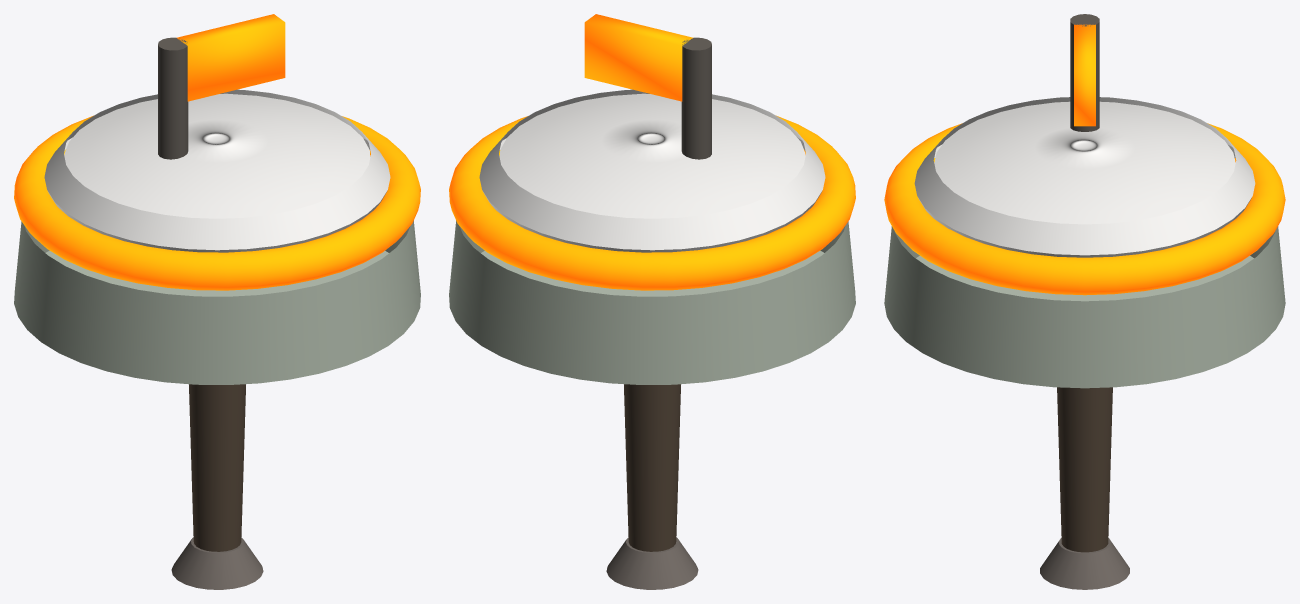
The model's file is poi-trailhead.glb.
The picture shows the model from 3 angles, left to right: view 1: azimuth 30°, elevation 25°; view 2: azimuth 150°, elevation 25°; view 3: azimuth 270°, elevation 25°; orthographic projection.
Visible parts, largest first — view 1: trailhead_head, trailhead_plate_dome, trailhead_ring, trailhead_plate_bevel, trailhead_stem, trailhead_flag, trailhead_pole, trailhead_foot, trailhead_collar, trailhead_plate_wall; view 2: trailhead_head, trailhead_plate_dome, trailhead_ring, trailhead_plate_bevel, trailhead_stem, trailhead_flag, trailhead_pole, trailhead_foot, trailhead_collar, trailhead_plate_wall; view 3: trailhead_head, trailhead_plate_dome, trailhead_ring, trailhead_plate_bevel, trailhead_stem, trailhead_foot, trailhead_flag, trailhead_pole, trailhead_collar, trailhead_plate_wall.
Part boxes in pixels (box(x1,y1,x2,y2)): trailhead_head: box(14, 220, 420, 384); trailhead_plate_dome: box(64, 93, 370, 218); trailhead_ring: box(14, 115, 420, 290); trailhead_plate_bevel: box(44, 89, 390, 250); trailhead_stem: box(189, 384, 245, 551); trailhead_flag: box(176, 14, 285, 101); trailhead_pole: box(158, 37, 188, 159); trailhead_foot: box(171, 537, 263, 589); trailhead_collar: box(132, 282, 302, 296); trailhead_plate_wall: box(48, 137, 386, 252); trailhead_head: box(449, 220, 855, 384); trailhead_plate_dome: box(499, 93, 805, 218); trailhead_ring: box(449, 115, 855, 290); trailhead_plate_bevel: box(479, 89, 825, 250); trailhead_stem: box(624, 384, 680, 551); trailhead_flag: box(584, 14, 693, 101); trailhead_pole: box(681, 37, 711, 159); trailhead_foot: box(606, 537, 698, 589); trailhead_collar: box(567, 282, 737, 296); trailhead_plate_wall: box(483, 137, 821, 252); trailhead_head: box(884, 226, 1285, 388); trailhead_plate_dome: box(934, 101, 1235, 224); trailhead_ring: box(884, 123, 1285, 295); trailhead_plate_bevel: box(914, 97, 1255, 255); trailhead_stem: box(1057, 387, 1112, 552); trailhead_foot: box(1040, 538, 1129, 589); trailhead_flag: box(1074, 24, 1095, 126); trailhead_pole: box(1070, 14, 1099, 131); trailhead_collar: box(1001, 287, 1168, 301); trailhead_plate_wall: box(918, 144, 1251, 257).
Bounding box in the file's own units: 0.796 × 1.16 × 0.796.
